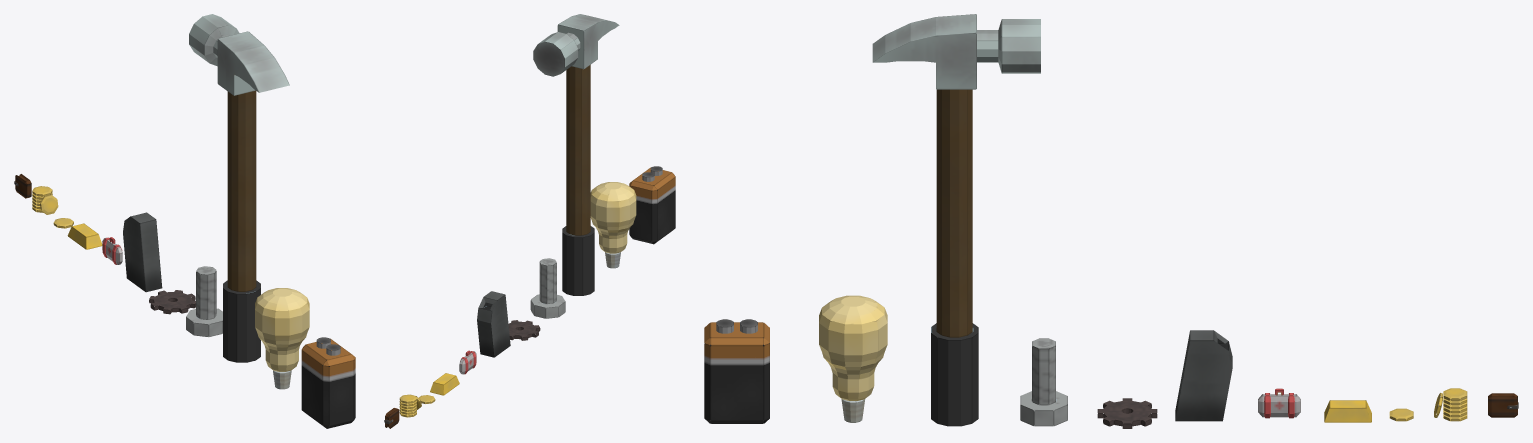
File: electronic Props.fbx
3 views of the same model, side by side, from view 1: azimuth 30°, elevation 25°; view 2: azimuth 150°, elevation 25°; view 3: azimuth 270°, elevation 25° (orthographic). The views are drawn at different scales.
Parts seen in each view (by area): view 1: cylinder_2, beveled_cuboid, light bulb, cuboid, pistolammo, scribble, cylinder_3, rack, gold ingot; view 2: cylinder_2, light bulb, beveled_cuboid, pistolammo, cuboid, cylinder_3, scribble, rack, gold ingot; view 3: cylinder_2, beveled_cuboid, light bulb, cuboid, pistolammo, cylinder_3, scribble, rack, gold ingot.
Boxes of the visible parts, bbox=[...] form: cylinder_2: bbox=[223, 90, 260, 362]; beveled_cuboid: bbox=[301, 338, 355, 428]; light bulb: bbox=[255, 288, 309, 389]; cuboid: bbox=[217, 31, 289, 95]; pistolammo: bbox=[123, 212, 162, 292]; scribble: bbox=[186, 266, 222, 337]; cylinder_3: bbox=[189, 14, 239, 66]; rack: bbox=[149, 290, 195, 314]; gold ingot: bbox=[67, 223, 102, 249]; cylinder_2: bbox=[562, 65, 594, 295]; light bulb: bbox=[590, 182, 636, 268]; beveled_cuboid: bbox=[629, 167, 675, 244]; pistolammo: bbox=[477, 291, 510, 357]; cuboid: bbox=[557, 14, 619, 69]; cylinder_3: bbox=[533, 32, 580, 76]; scribble: bbox=[530, 258, 565, 318]; rack: bbox=[508, 320, 540, 340]; gold ingot: bbox=[430, 373, 459, 395]; cylinder_2: bbox=[931, 89, 978, 426]; beveled_cuboid: bbox=[704, 322, 769, 423]; light bulb: bbox=[819, 295, 887, 422]; cuboid: bbox=[872, 14, 976, 89]; pistolammo: bbox=[1175, 330, 1232, 421]; cylinder_3: bbox=[976, 19, 1040, 73]; scribble: bbox=[1020, 338, 1067, 426]; rack: bbox=[1097, 398, 1157, 428]; gold ingot: bbox=[1324, 400, 1371, 422].
Bounding box in the file's own units: 144 × 919 × 1708.
1 material, 1 textured.
